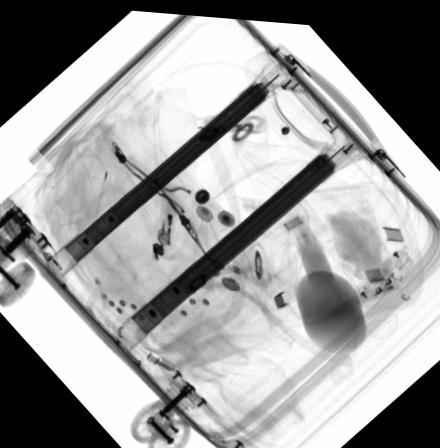Lighter: (155, 182, 174, 243)
